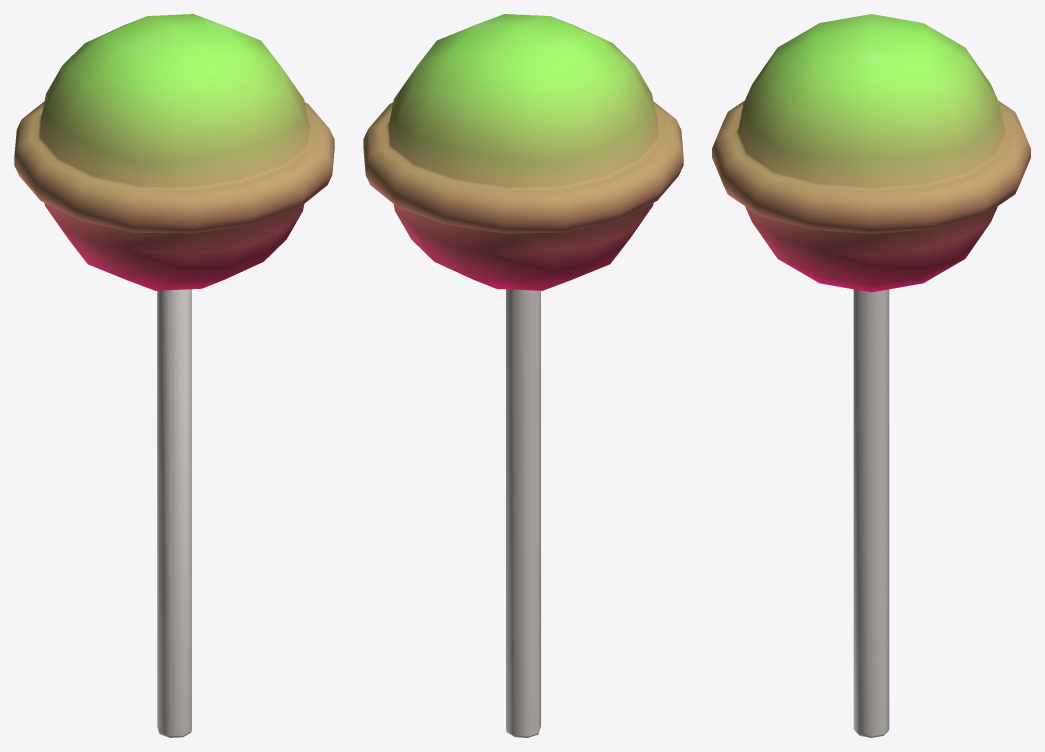
Rendered from candy_glass_4.fbx.
3 renders of one model, left to right at view 1: azimuth 30°, elevation 25°; view 2: azimuth 150°, elevation 25°; view 3: azimuth 270°, elevation 25°, orthographic.
Parts seen in each view (by area): view 1: c_g_4; view 2: c_g_4; view 3: c_g_4.
Boxes of the visible parts, x1=… form: c_g_4: x1=14, y1=14, x2=334, y2=737; c_g_4: x1=363, y1=14, x2=683, y2=737; c_g_4: x1=712, y1=14, x2=1030, y2=737.
Bounding box in the file's own units: 124 × 301 × 124.
